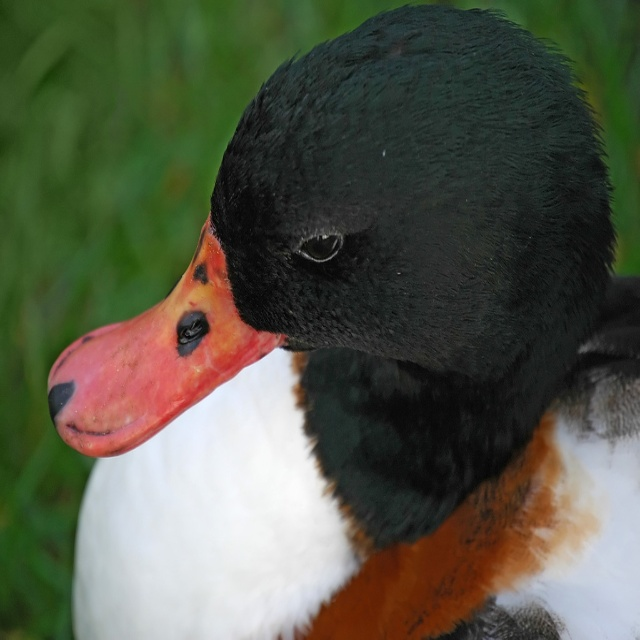Duck: (55, 27, 640, 592)
